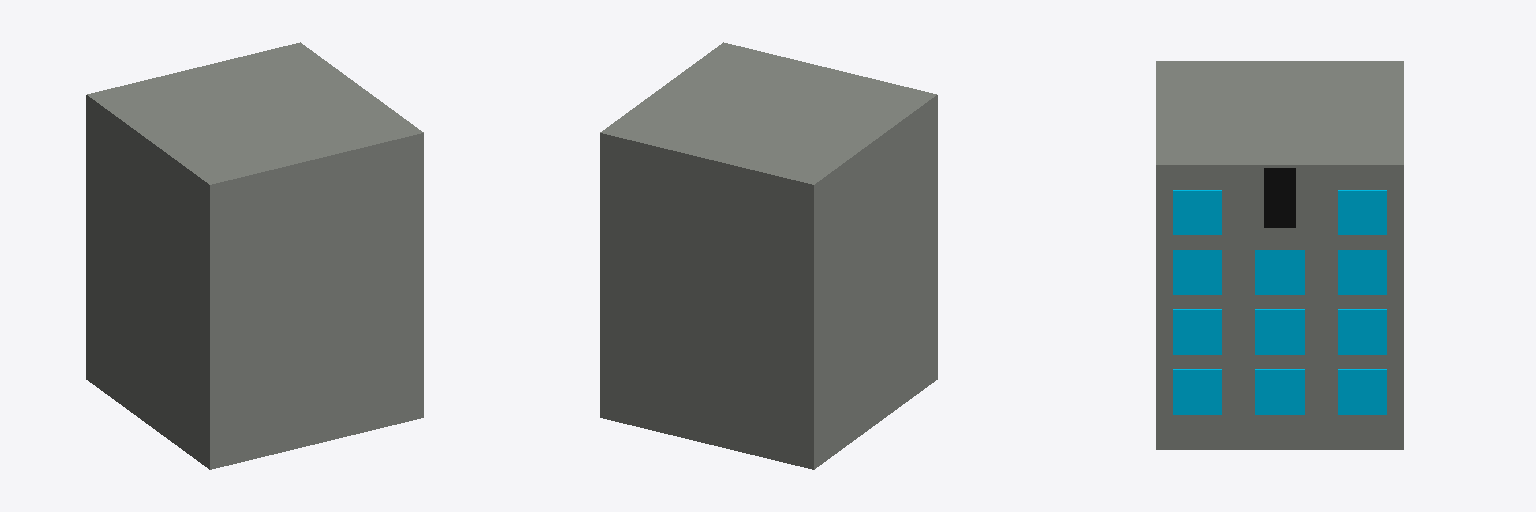
File: building1.obj
3 views of the same model, side by side, from view 1: azimuth 30°, elevation 25°; view 2: azimuth 150°, elevation 25°; view 3: azimuth 270°, elevation 25° (orthographic).
Visible parts, largest first — view 1: Mesh1 Mesh1_Mesh2_cube01_1_skpB8_1_Model_Model Model; view 2: Mesh1 Mesh1_Mesh2_cube01_1_skpB8_1_Model_Model Model; view 3: Mesh1 Mesh1_Mesh2_cube01_1_skpB8_1_Model_Model Model, Mesh2 Mesh2_Mesh3_cube02_1_skpB8_1_Model_Model Model, Mesh8 Mesh8_Mesh9_cube08_1_skpB8_1_Model_Model Model, Mesh3 Mesh3_Mesh4_cube03_1_skpB8_1_Model_Model Model, Mesh5 Mesh5_Mesh6_cube05_1_skpB8_1_Model_Model Model, Mesh6 Mesh6_Mesh7_cube06_1_skpB8_1_Model_Model Model, Mesh7 Mesh7_Mesh8_cube07_1_skpB8_1_Model_Model Model, Mesh9 Mesh9_Mesh10_cube09_1_skpB8_1_Model_Model Model, Mesh4 Mesh4_Mesh5_cube04_1_skpB8_1_Model_Model Model, Mesh10 Mesh10_Mesh11_cube10_1_skpB8_1_Model_Model Model, Mesh11 Mesh11_Mesh12_cube11_1_skpB8_1_Model_Model Model, Mesh12 Mesh12_Mesh13_cube12_1_skpB8_1_Model_Model Model (+1 smaller).
Part boxes in pixels (bbox=[...]): Mesh1 Mesh1_Mesh2_cube01_1_skpB8_1_Model_Model Model: bbox=[86, 42, 423, 469]; Mesh1 Mesh1_Mesh2_cube01_1_skpB8_1_Model_Model Model: bbox=[600, 42, 937, 469]; Mesh1 Mesh1_Mesh2_cube01_1_skpB8_1_Model_Model Model: bbox=[1156, 61, 1403, 449]; Mesh2 Mesh2_Mesh3_cube02_1_skpB8_1_Model_Model Model: bbox=[1255, 369, 1304, 414]; Mesh8 Mesh8_Mesh9_cube08_1_skpB8_1_Model_Model Model: bbox=[1255, 309, 1304, 354]; Mesh3 Mesh3_Mesh4_cube03_1_skpB8_1_Model_Model Model: bbox=[1173, 369, 1221, 414]; Mesh5 Mesh5_Mesh6_cube05_1_skpB8_1_Model_Model Model: bbox=[1338, 369, 1386, 414]; Mesh6 Mesh6_Mesh7_cube06_1_skpB8_1_Model_Model Model: bbox=[1338, 309, 1386, 354]; Mesh7 Mesh7_Mesh8_cube07_1_skpB8_1_Model_Model Model: bbox=[1173, 309, 1221, 354]; Mesh9 Mesh9_Mesh10_cube09_1_skpB8_1_Model_Model Model: bbox=[1255, 250, 1304, 294]; Mesh4 Mesh4_Mesh5_cube04_1_skpB8_1_Model_Model Model: bbox=[1173, 190, 1221, 234]; Mesh10 Mesh10_Mesh11_cube10_1_skpB8_1_Model_Model Model: bbox=[1173, 250, 1221, 294]; Mesh11 Mesh11_Mesh12_cube11_1_skpB8_1_Model_Model Model: bbox=[1338, 250, 1386, 294]; Mesh12 Mesh12_Mesh13_cube12_1_skpB8_1_Model_Model Model: bbox=[1338, 190, 1386, 234].
Size of the model in its own units: 12.12 by 15.32 by 12.04.